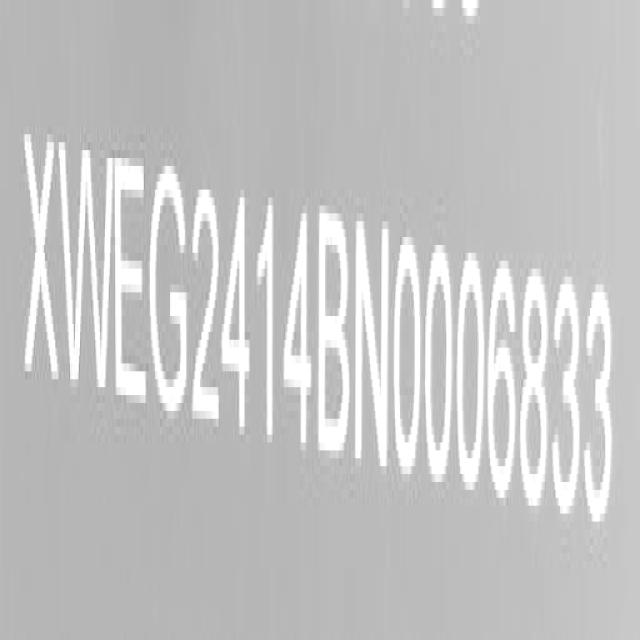0: (395, 225, 425, 484), (427, 237, 456, 488), (458, 248, 487, 491)
1: (256, 188, 276, 446)
2: (192, 176, 224, 435)
3: (588, 284, 618, 536), (550, 273, 580, 522)
4: (284, 197, 316, 462), (222, 180, 251, 440)
6: (488, 256, 520, 498)
8: (520, 265, 550, 509)
B: (318, 204, 352, 473)
E: (115, 142, 148, 419)
G: (149, 155, 188, 425)
N: (358, 211, 394, 482)
W: (60, 126, 114, 408)
X: (23, 121, 60, 400)
